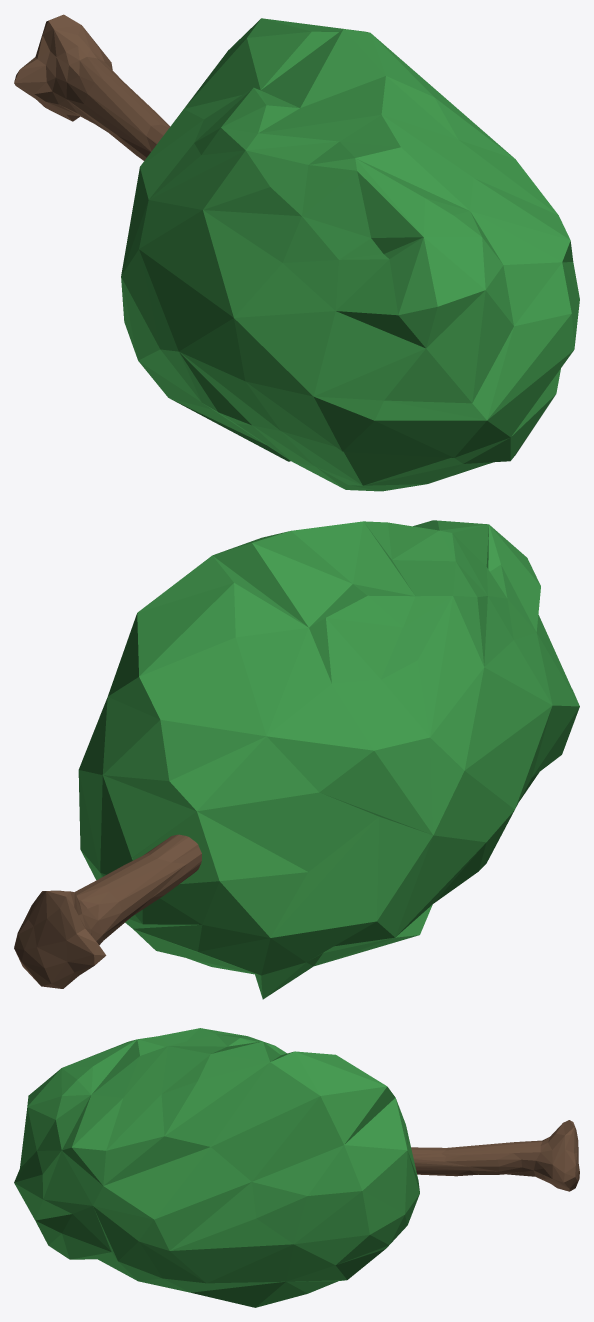
The model's file is tree6.fbx.
3 renders of one model, top to bottom at view 1: azimuth 30°, elevation 25°; view 2: azimuth 150°, elevation 25°; view 3: azimuth 270°, elevation 25°, orthographic. The views are drawn at different scales.
Parts seen in each view (by area): view 1: Group63453.001, Tree37; view 2: Group63453.001, Tree37; view 3: Group63453.001, Tree37.
Part boxes in pixels (x1,y1,x2,y2): Group63453.001: (121,18,579,491); Tree37: (14,14,170,160); Group63453.001: (78,520,579,999); Tree37: (14,834,201,988); Group63453.001: (14,1028,419,1307); Tree37: (411,1120,579,1191).
Bounding box in the file's own units: 1594 × 1765 × 3501.
